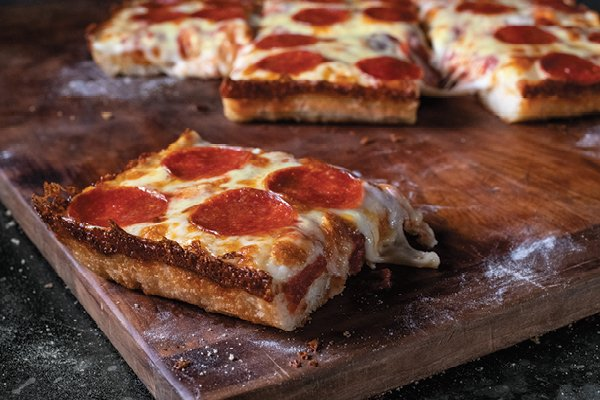sandwich: (38, 130, 444, 332), (220, 2, 427, 126), (417, 0, 600, 123)
